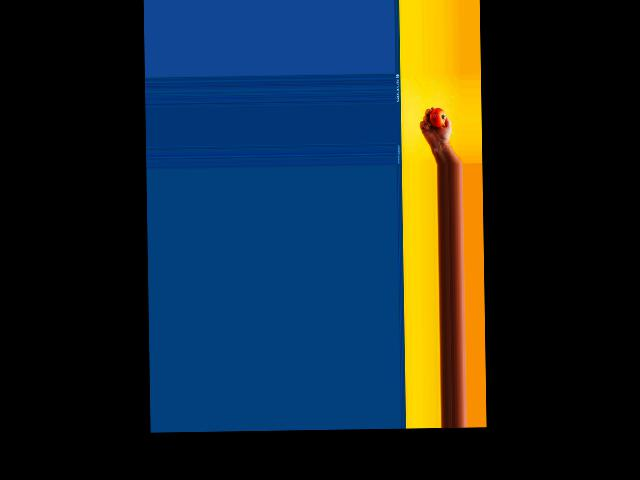tomato: (429, 108, 445, 127)
